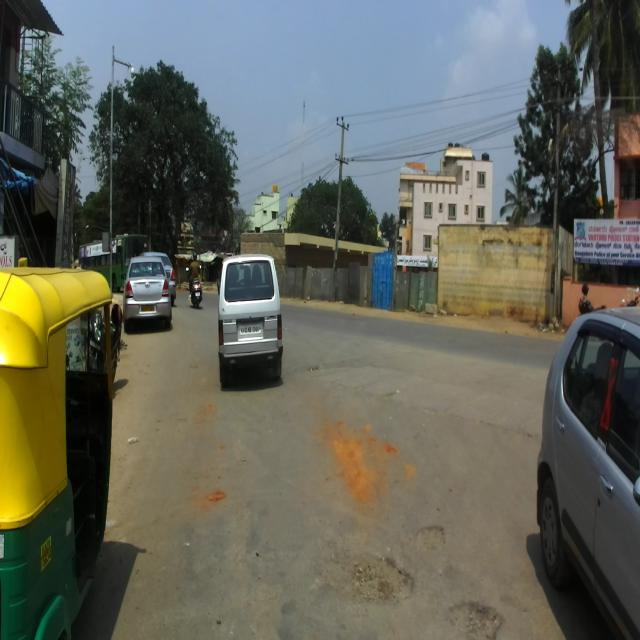auto ahead at: (0, 251, 119, 640)
car ahead at: (539, 297, 640, 640), (214, 249, 288, 381), (122, 252, 172, 336)
